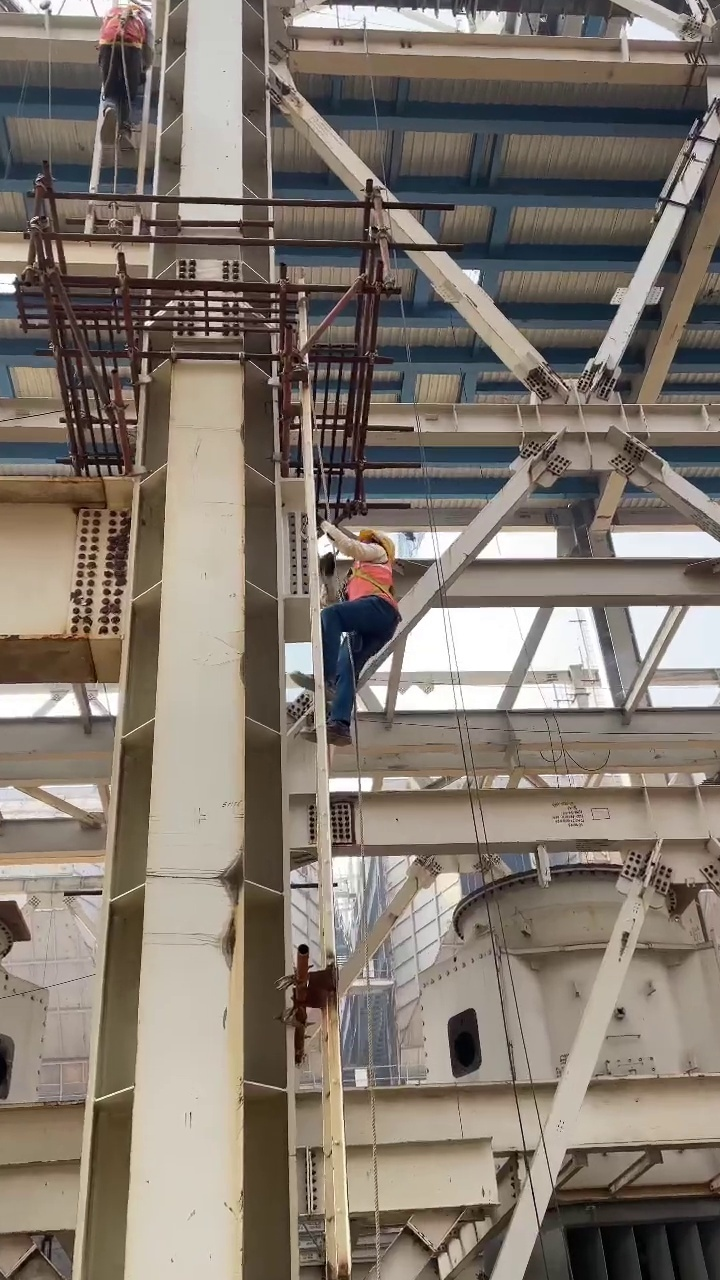Helmet: (358, 525, 398, 554)
Person: (290, 526, 402, 748), (95, 3, 148, 160)
Safety_Harness: (349, 561, 401, 607), (98, 5, 145, 46)
Safety_shoes: (300, 721, 351, 748), (289, 670, 330, 692), (101, 111, 119, 149), (118, 135, 137, 162)
